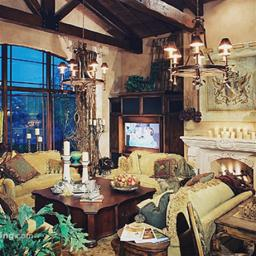Electrodomestico: (125, 121, 163, 151)
Ventana: (3, 43, 91, 150)
